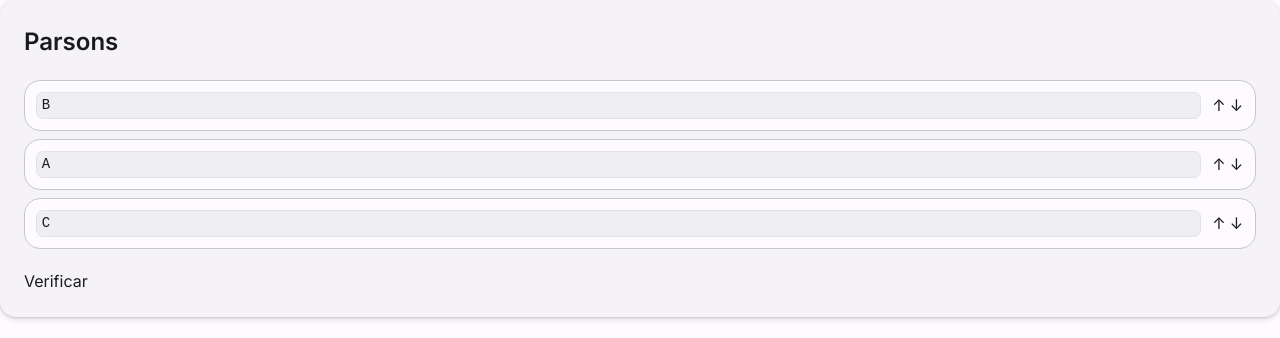
Test: ParsonsPuzzle › reorders lines and checks correctness
The width and height of the screenshot is (1280, 338).
Expected: the number of list items with class "lesson-parsons__item" is 3, [24,80,1256,131]; [24,139,1256,190]; [24,198,1256,249]
// Move up second item (A) to the top
Click the 2nd button "↑" at (1219,164), box [1212,152,1226,176]
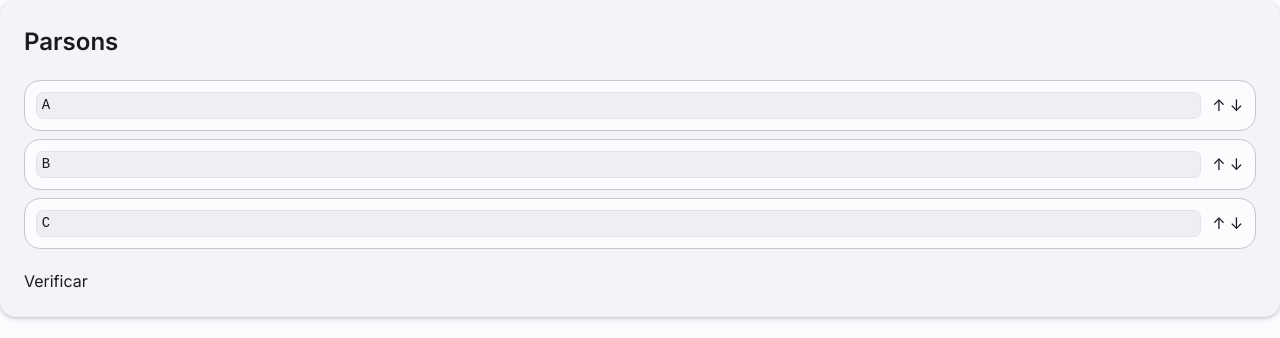
Click the button with class "md-button--filled" at (56,281), box [24,269,88,293]
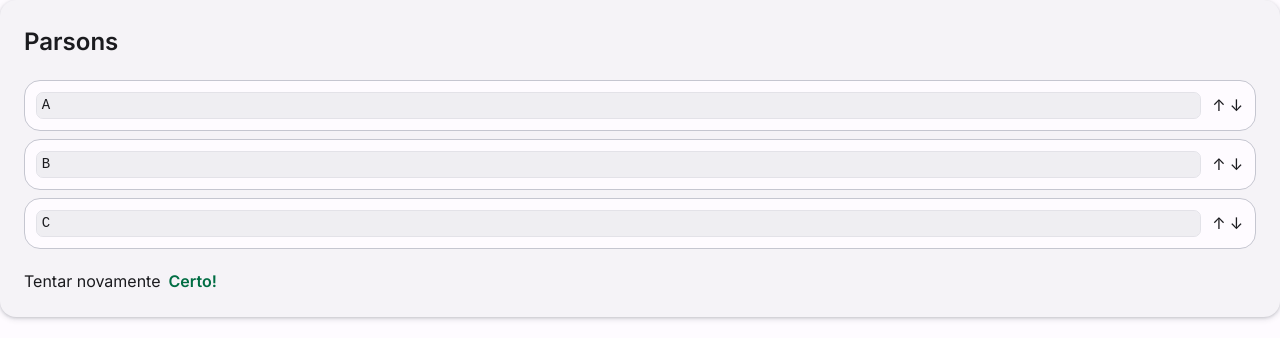
Expected: the text "Certo!" is shown, [168,269,217,293]
